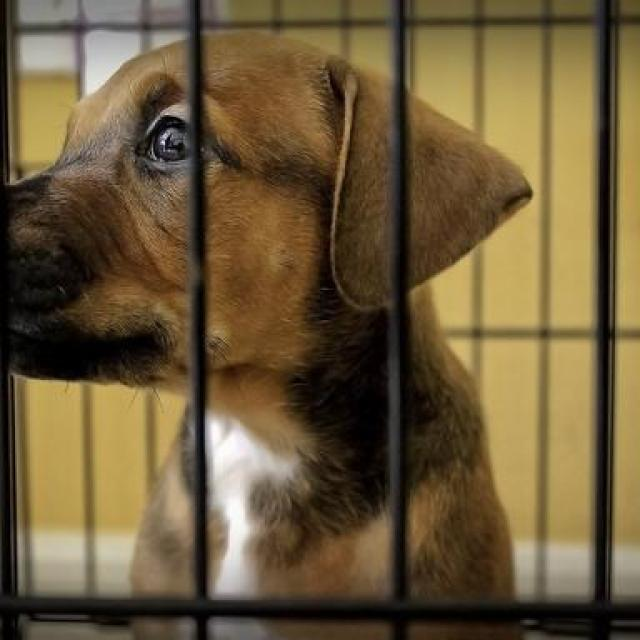sad: (16, 16, 551, 556)
